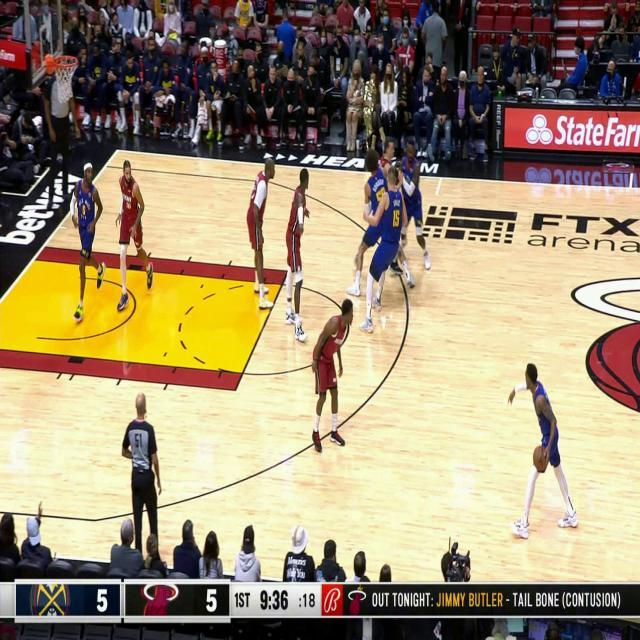rim: (534, 445, 547, 473)
